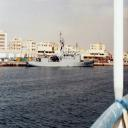Fragata: (25, 26, 97, 70)
